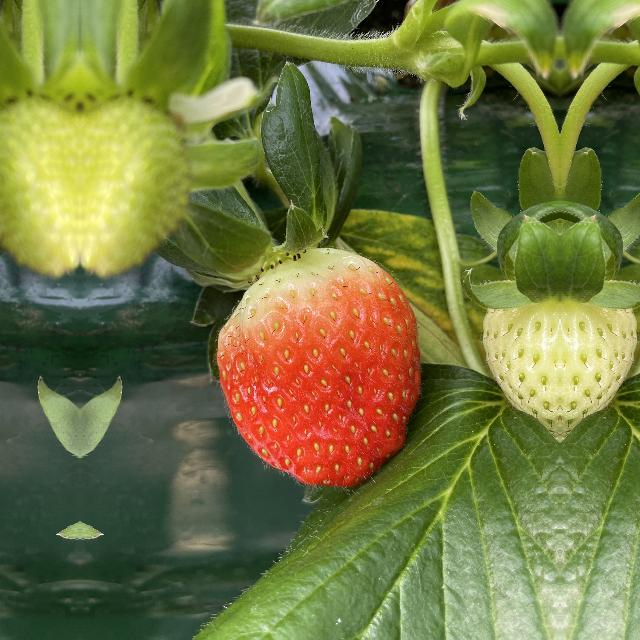Health_100: (208, 245, 434, 483)
Health_25: (484, 252, 560, 460), (560, 252, 636, 460)
